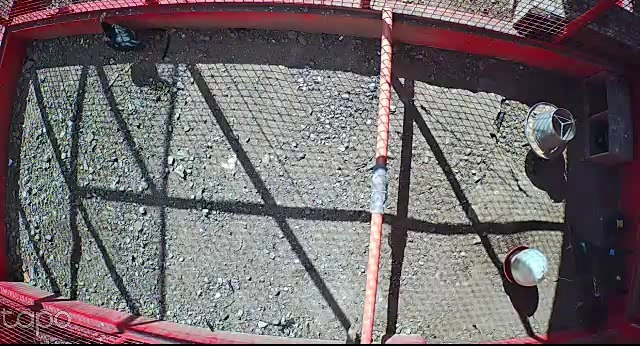Chicken: (94, 13, 154, 58)
Feeder: (524, 99, 574, 158), (503, 245, 548, 287)
Saddle_Color_Blue: (609, 249, 615, 255)
Saddle_Color_Yellow: (617, 219, 624, 228)
